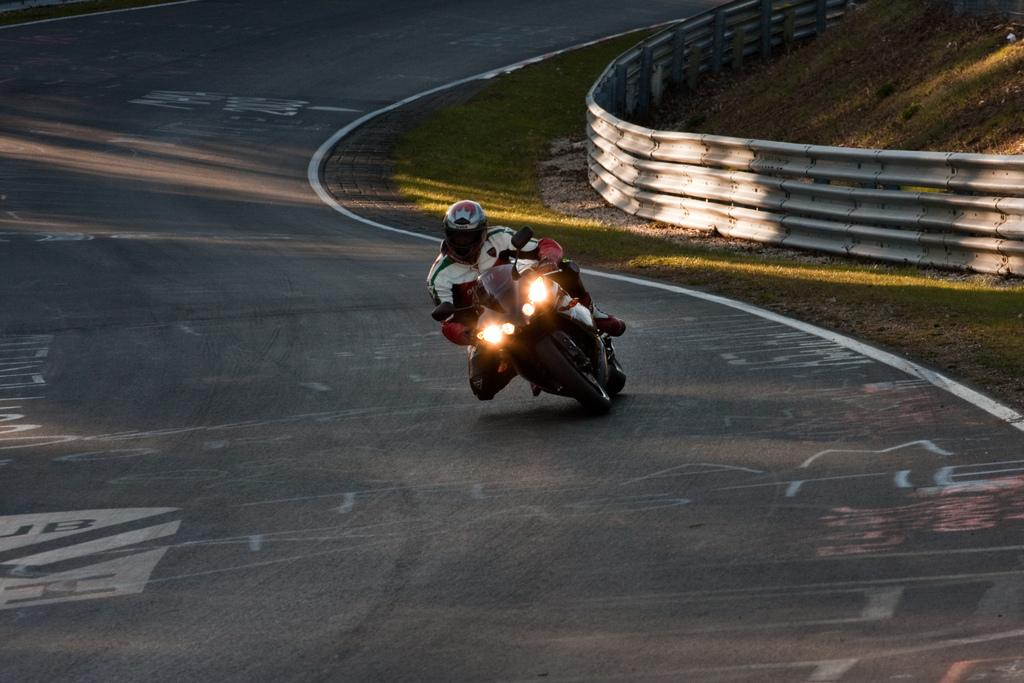helmet: (443, 200, 488, 261)
